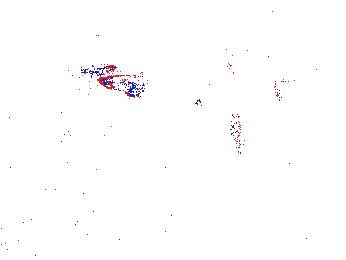glassfish: (196, 77, 245, 150)
red belly glassfish: (80, 63, 116, 76)
redtail glassfish: (217, 41, 287, 103), (97, 73, 152, 96)
